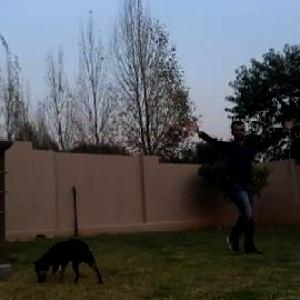takeoff: (151, 122, 270, 252)
